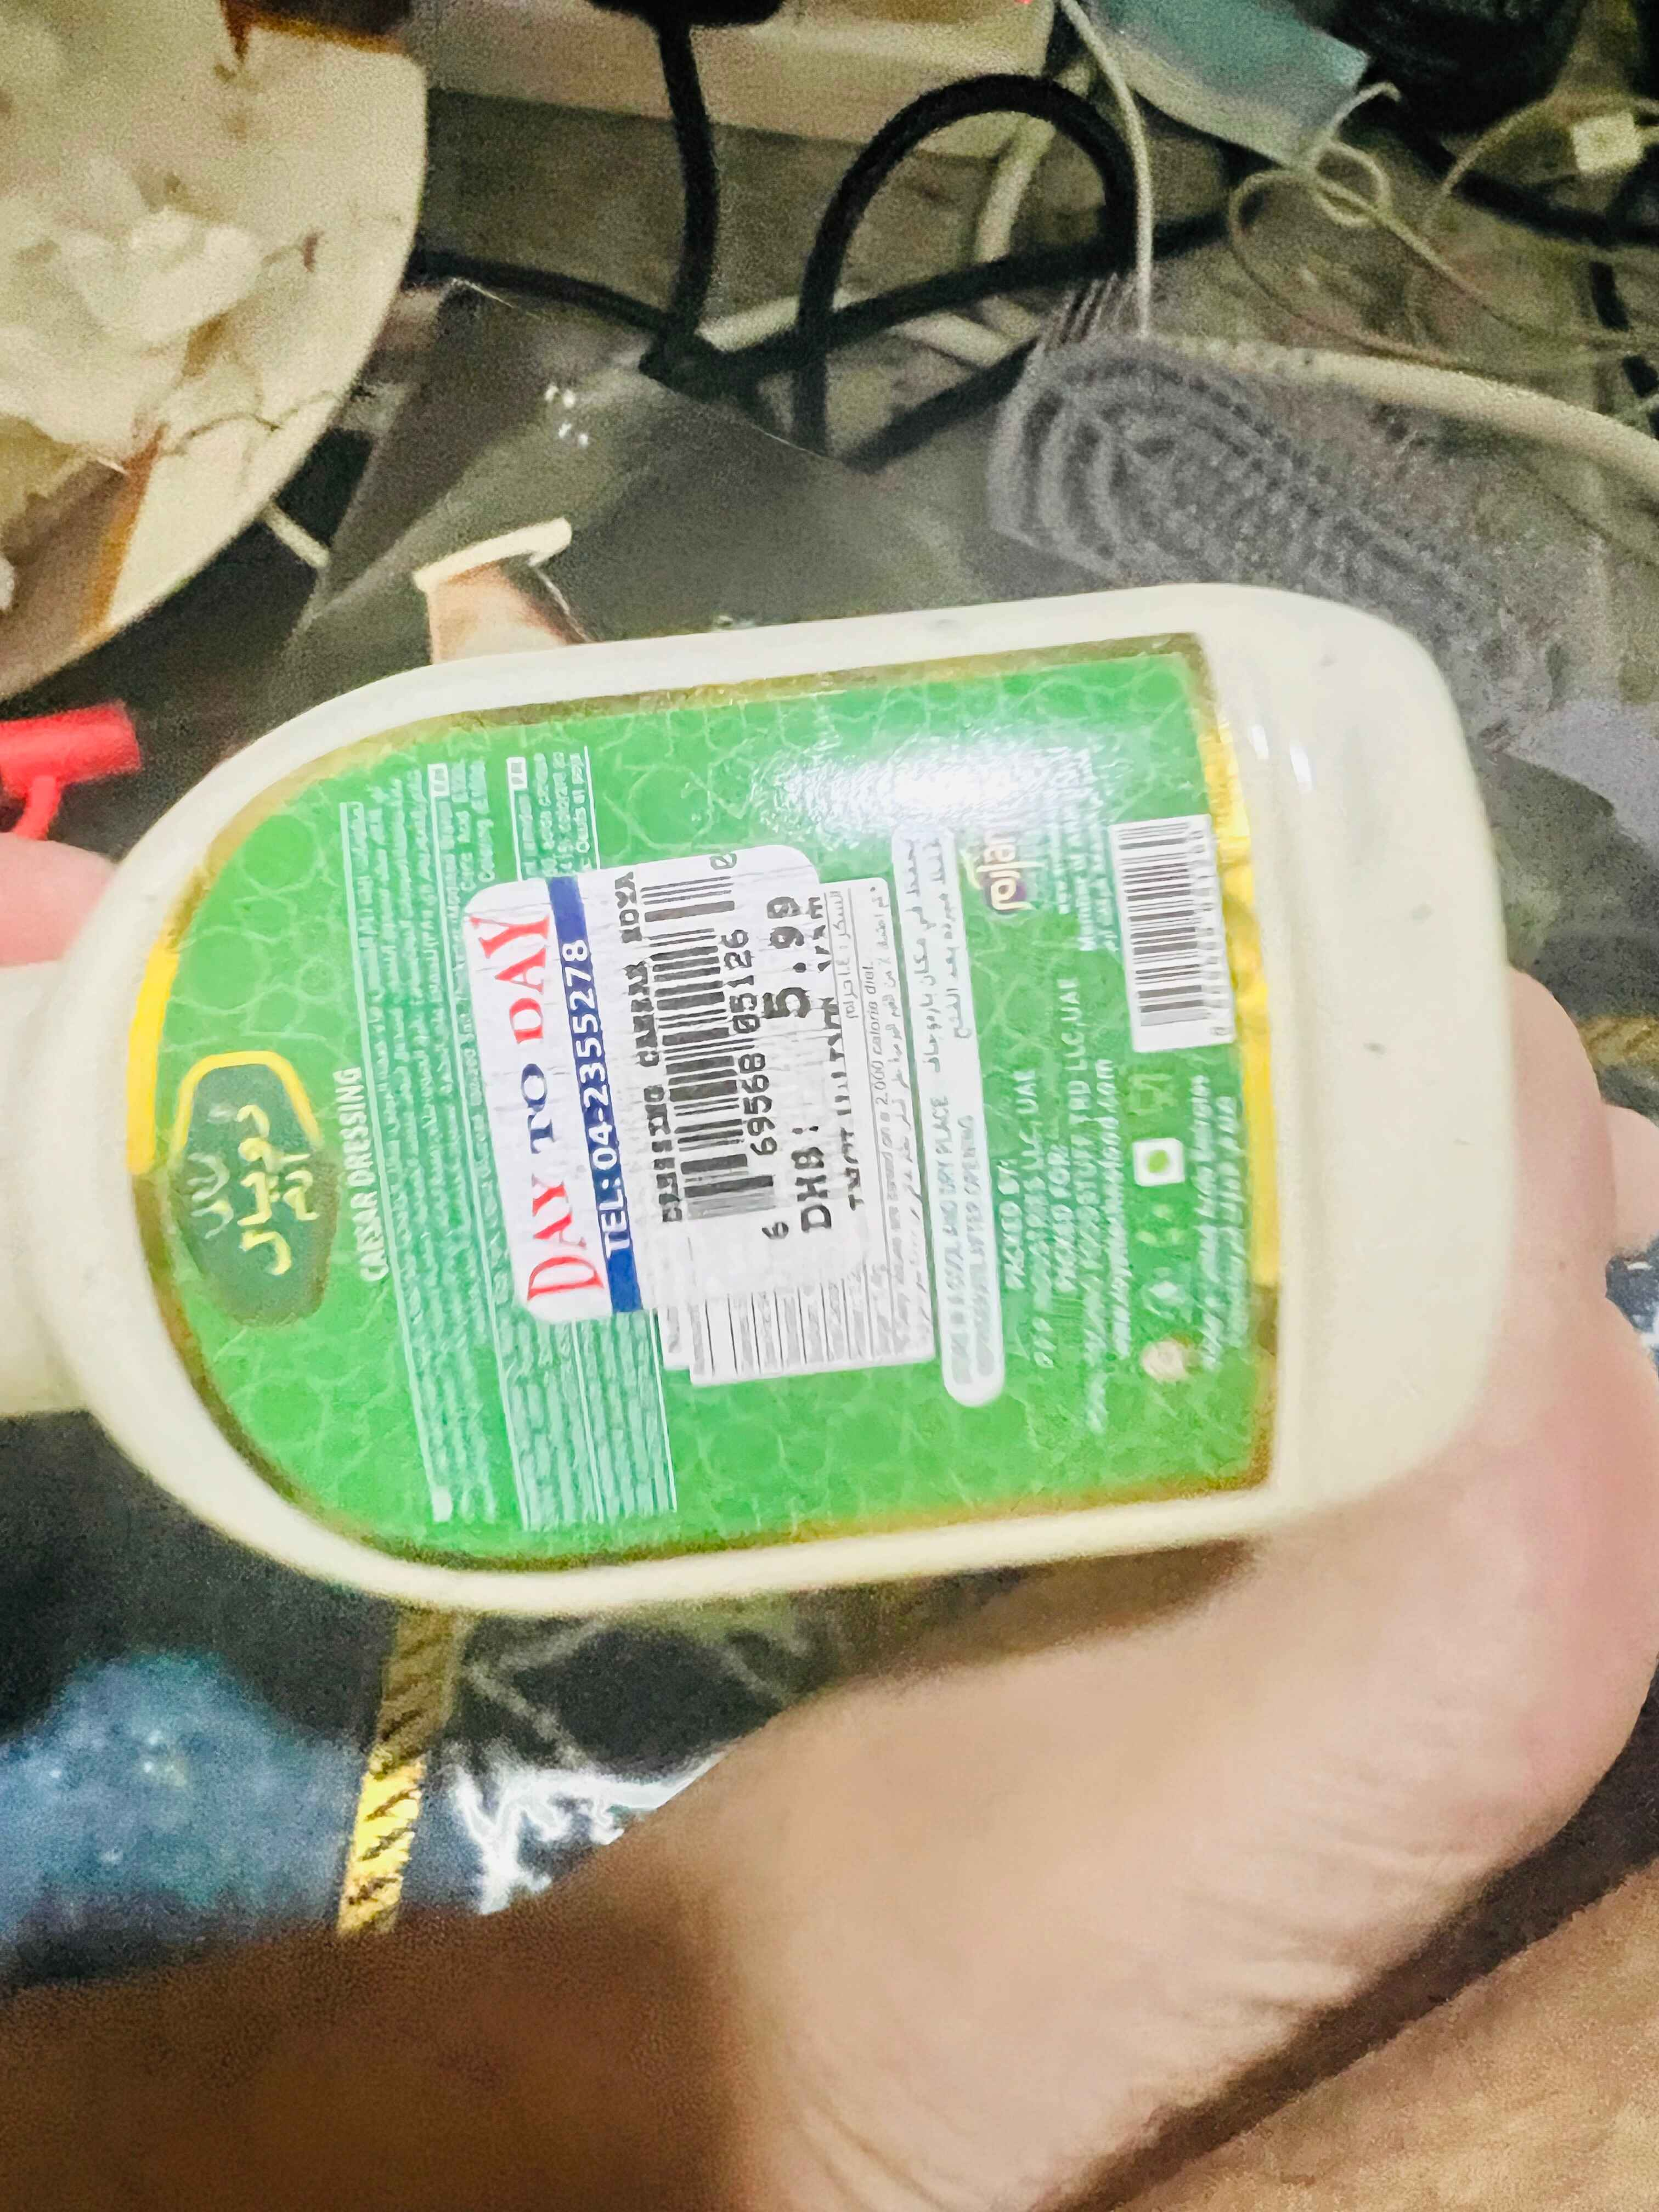PriceTagBig: (450, 848, 920, 1325)
